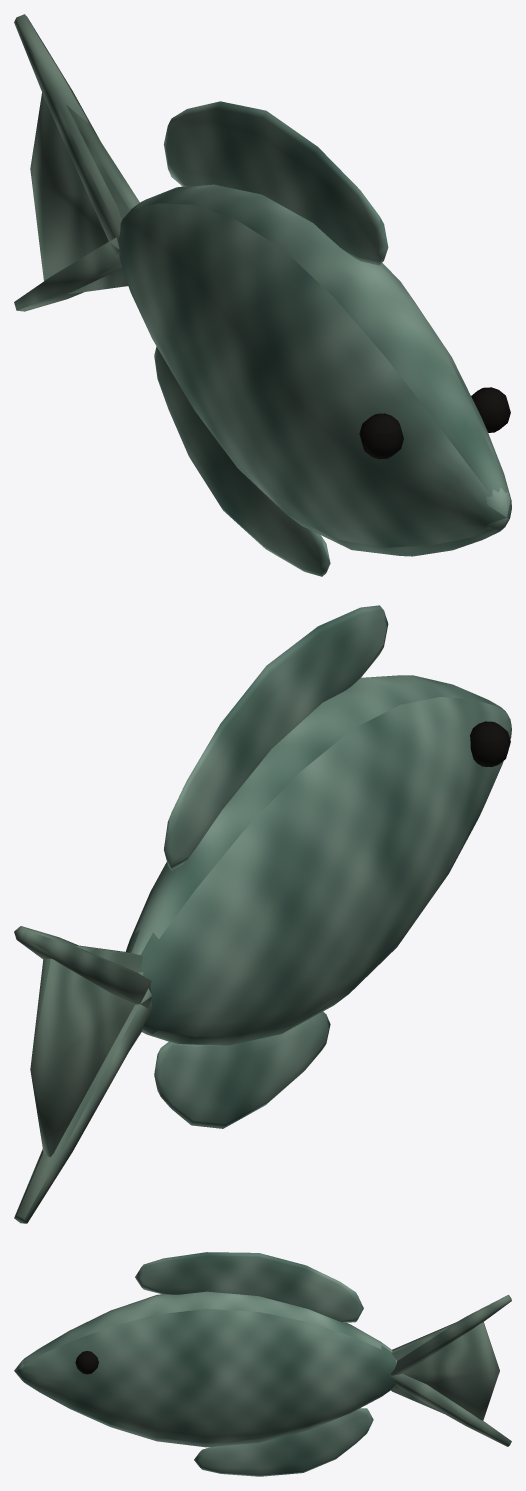
The model's file is water_karimeen_fish.glb.
3 views of the same model, one above another, from view 1: azimuth 30°, elevation 25°; view 2: azimuth 150°, elevation 25°; view 3: azimuth 270°, elevation 25° (orthographic). The views are drawn at different scales.
Parts seen in each view (by area): view 1: Body.010, TailFin, Eyes.010; view 2: Body.010, TailFin, Eyes.010; view 3: Body.010, TailFin, Eyes.010.
Part boxes in pixels (x1,y1,x2,y2): Body.010: (118, 101, 511, 576); TailFin: (14, 14, 139, 311); Eyes.010: (359, 387, 510, 459); Body.010: (125, 605, 511, 1128); TailFin: (14, 926, 153, 1223); Eyes.010: (470, 721, 510, 767); Body.010: (14, 1252, 396, 1476); TailFin: (391, 1295, 511, 1446); Eyes.010: (75, 1351, 98, 1374).
Size of the model in its own units: 0.088 by 0.2522 by 0.5066.
Materials: 3 (3 with a texture image).
